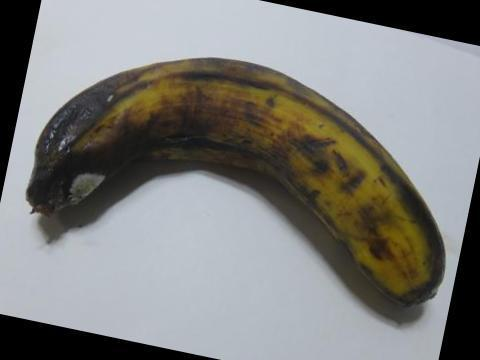overripe: (16, 29, 455, 320)
rotten: (12, 70, 167, 220)
